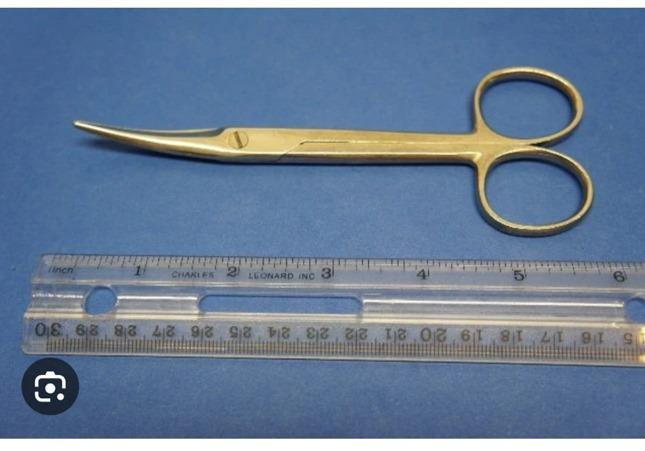Curved Mayo: (63, 59, 605, 239)
